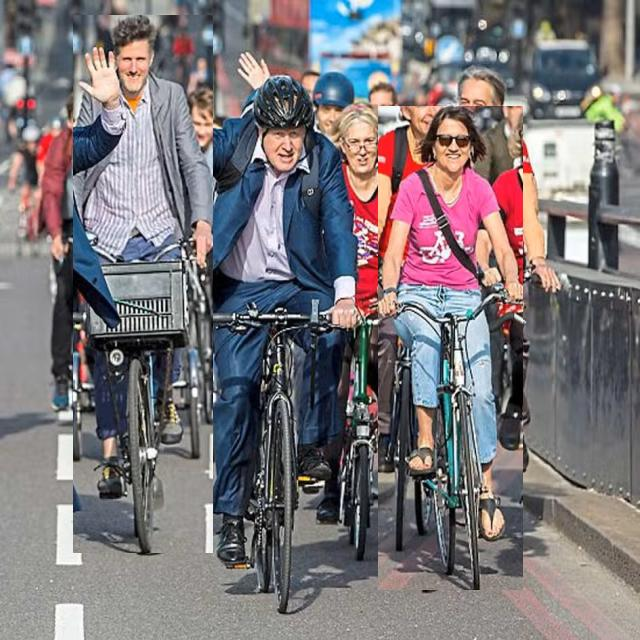bicycle: (162, 49, 356, 613), (74, 16, 213, 553), (379, 106, 523, 590)
